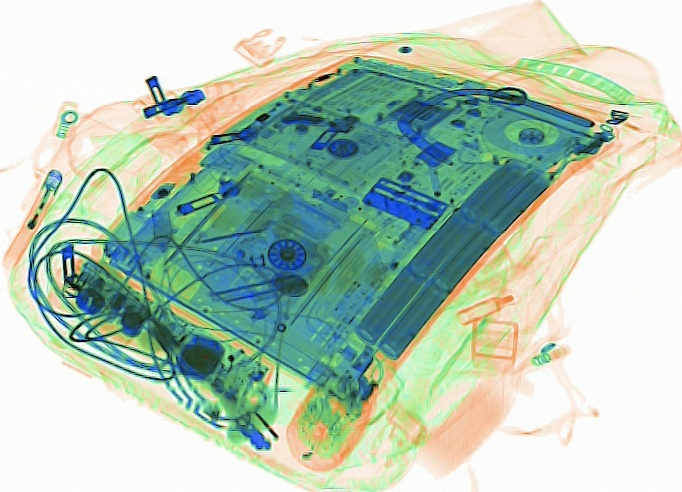lighter: (2, 168, 63, 273)
